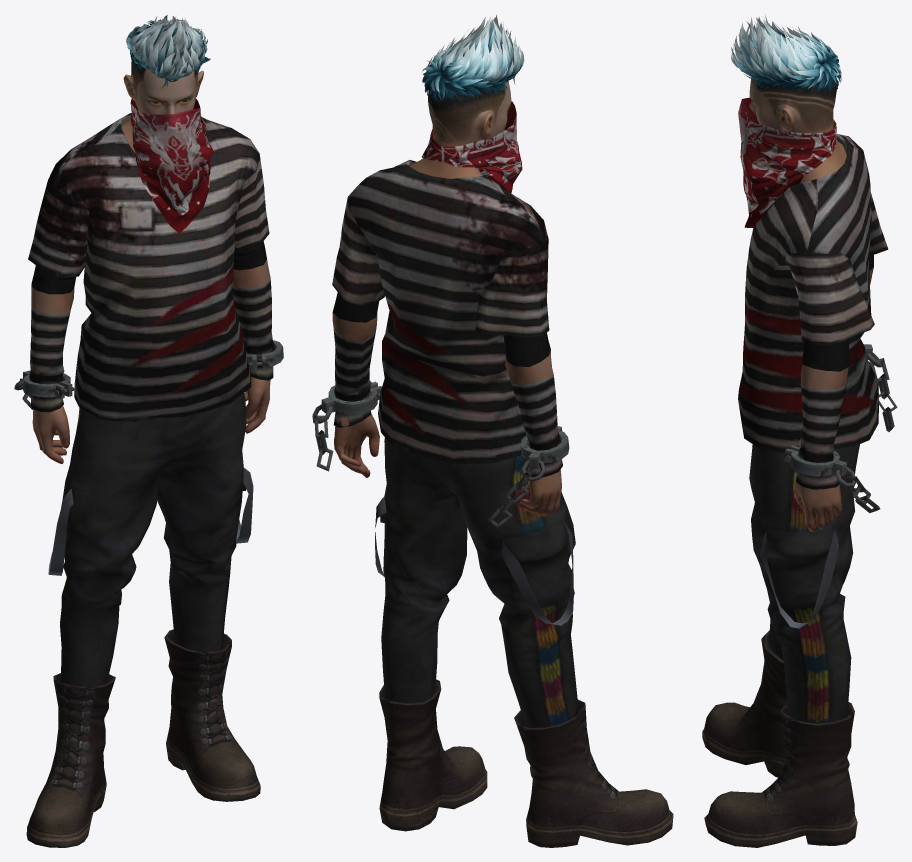
File: cool_bundle_free_fire.glb
3 renders of one model, left to right at view 1: azimuth 30°, elevation 25°; view 2: azimuth 150°, elevation 25°; view 3: azimuth 270°, elevation 25°, orthographic. The views are drawn at different scales.
Visible parts, largest first — view 1: Mesh_0014.rip, Mesh_0021.rip, Mesh_0017.rip, Mesh_0015.rip, Mesh_0019.rip, Mesh_0035.rip; view 2: Mesh_0014.rip, Mesh_0021.rip, Mesh_0017.rip, Mesh_0019.rip, Mesh_0035.rip, Mesh_0015.rip; view 3: Mesh_0014.rip, Mesh_0021.rip, Mesh_0017.rip, Mesh_0019.rip, Mesh_0015.rip, Mesh_0035.rip.
Boxes of the visible parts, box(x1,y1,x2,y2) form: Mesh_0014.rip: box(14, 113, 283, 421); Mesh_0021.rip: box(48, 393, 253, 687); Mesh_0017.rip: box(26, 629, 260, 847); Mesh_0015.rip: box(130, 98, 213, 233); Mesh_0019.rip: box(31, 29, 270, 463); Mesh_0035.rip: box(126, 14, 210, 88); Mesh_0014.rip: box(312, 160, 569, 529); Mesh_0021.rip: box(375, 438, 578, 727); Mesh_0017.rip: box(379, 679, 673, 847); Mesh_0019.rip: box(332, 80, 561, 517); Mesh_0035.rip: box(422, 15, 524, 103); Mesh_0015.rip: box(421, 101, 522, 192); Mesh_0014.rip: box(738, 134, 897, 513); Mesh_0021.rip: box(749, 444, 859, 723); Mesh_0017.rip: box(702, 630, 857, 847); Mesh_0019.rip: box(749, 76, 873, 531); Mesh_0015.rip: box(738, 97, 836, 227); Mesh_0035.rip: box(731, 14, 841, 93).
Size of the model in its own units: 3.74 by 9.49 by 2.1.
6 materials, 6 textured.
